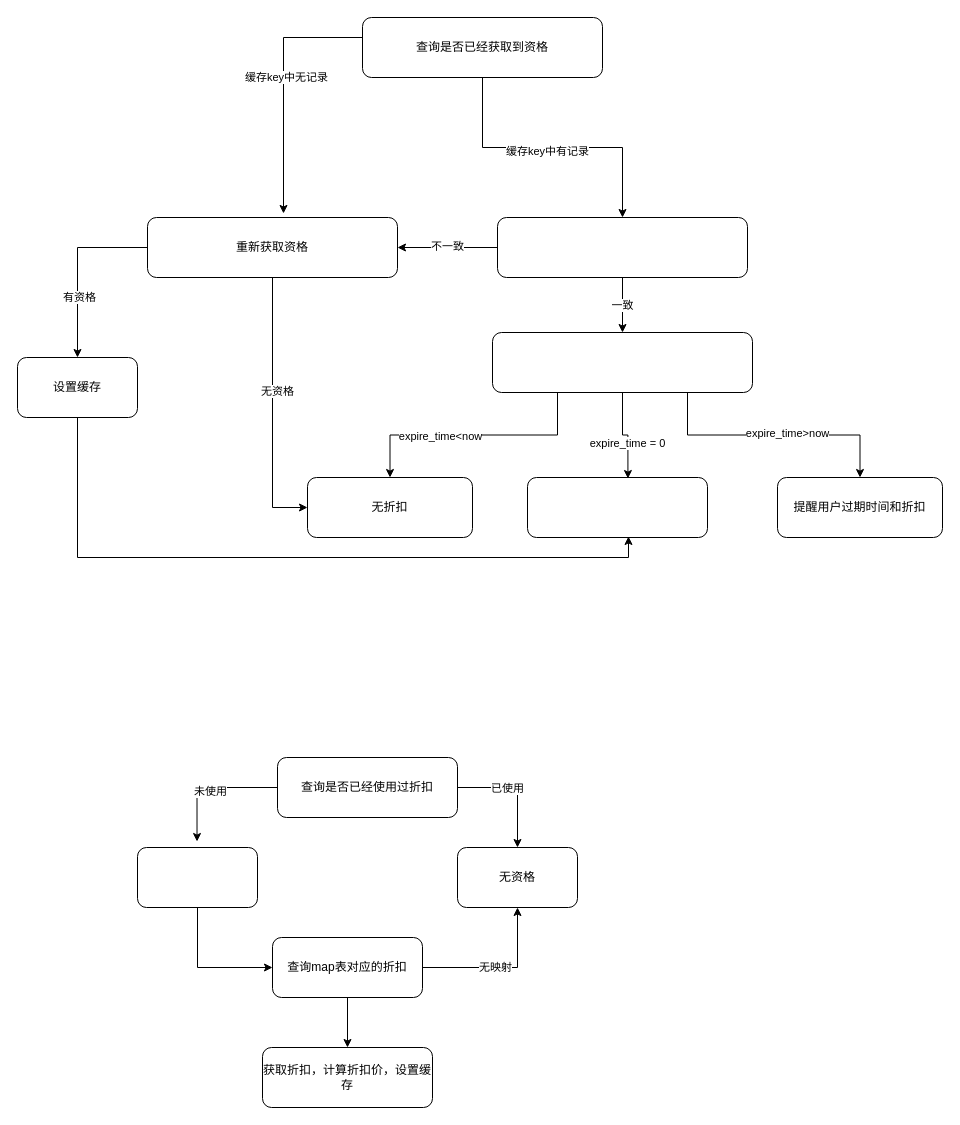
Some shapes in this 960 by 1125 pixel diagram are drawn without their labels. Here are the shapes that lost their labels. From the top down, the centre of each, then its label:
(622,247): 缓存商店等级是否与用户的商店等级一致
(622,362): 判断折扣时间是否过期
(617,507): 提醒用户开启
(197,877): 查询用户的商店等级及其手册等级
